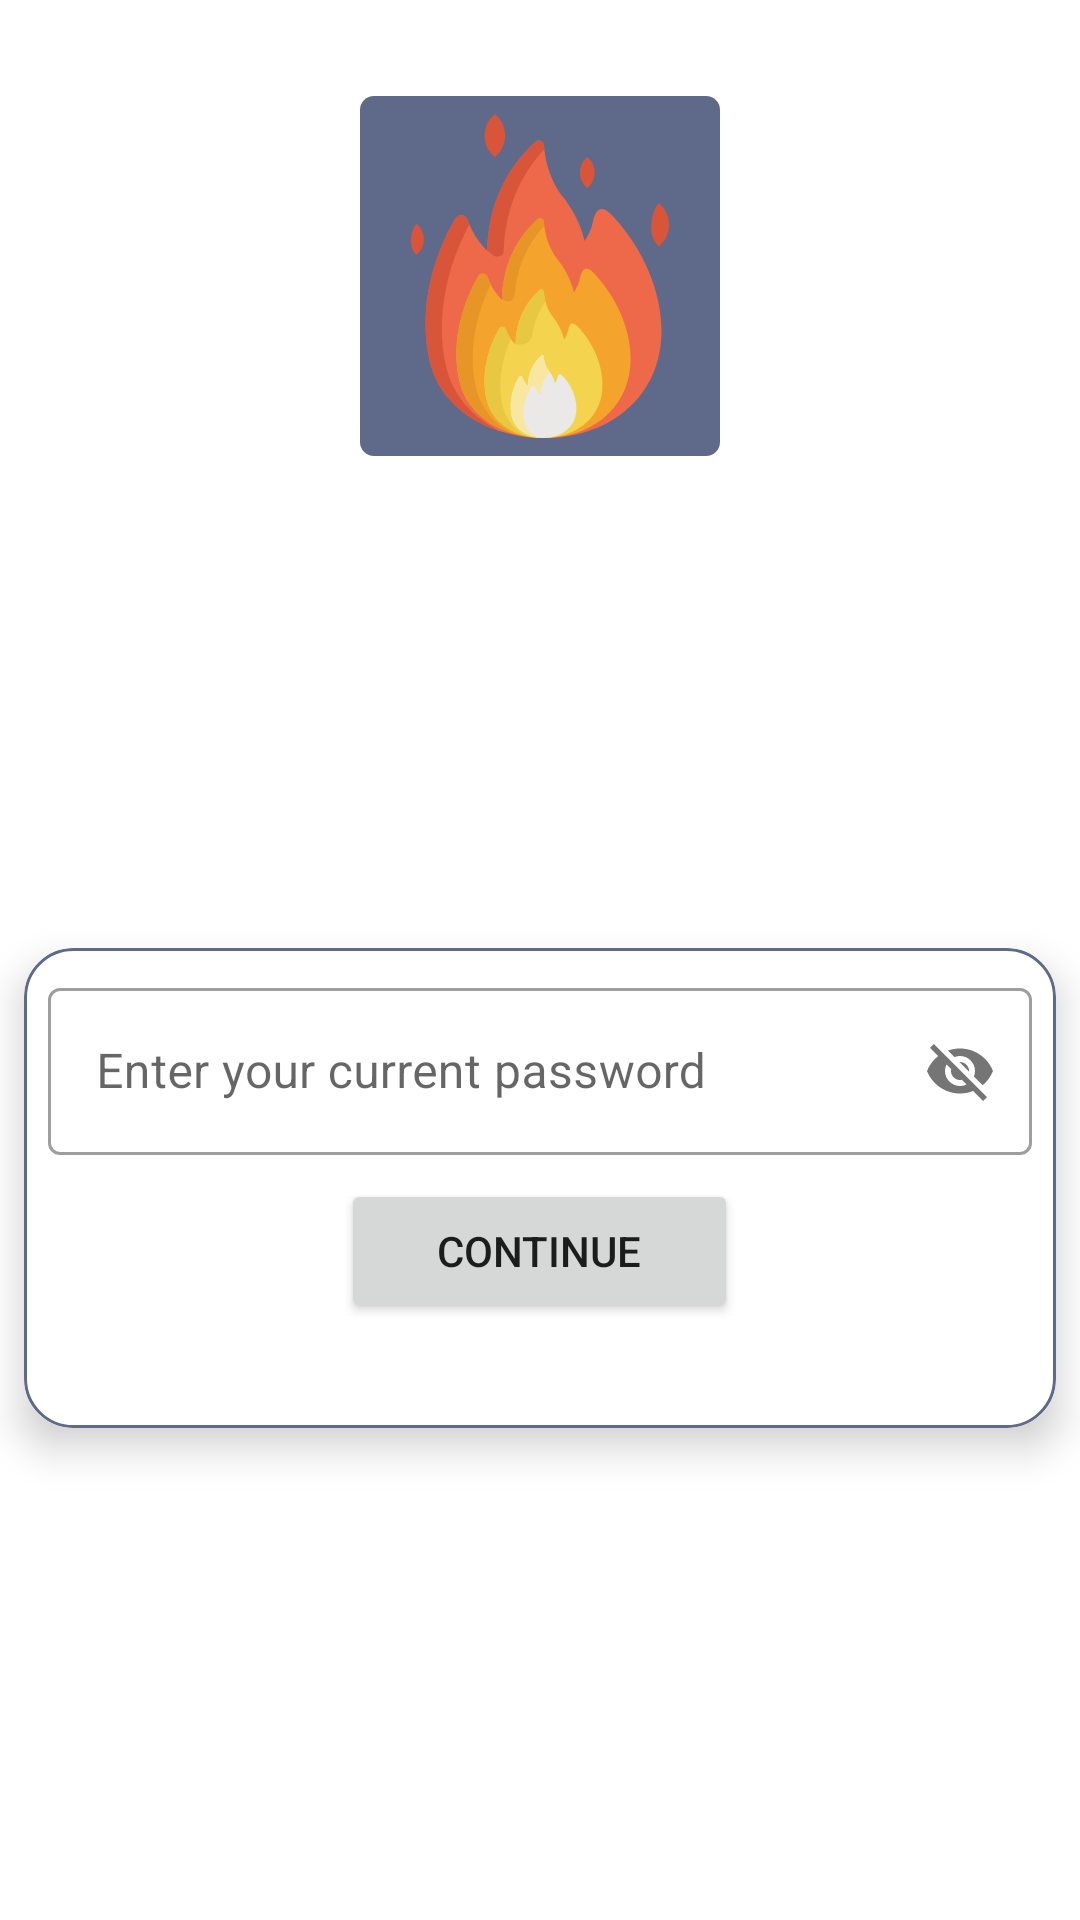

Icon bounding boxes for this 1080*1920 phone screenshot, format Rect(x1, y1, x2, y2):
fire login activity: Rect(360, 96, 720, 456)
